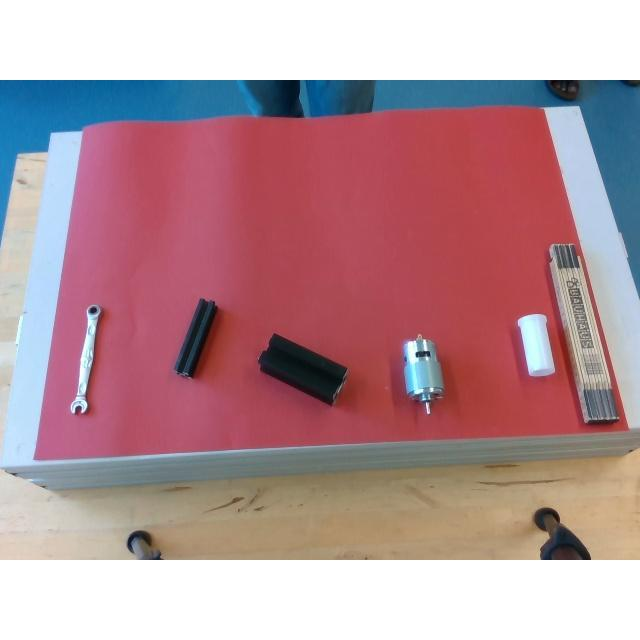F20_20_B: (176, 300, 217, 376)
Motor2: (403, 336, 443, 412)
S40_40_B: (259, 332, 347, 403)
Spacer: (518, 315, 554, 375)
Wrench: (68, 302, 104, 416)
